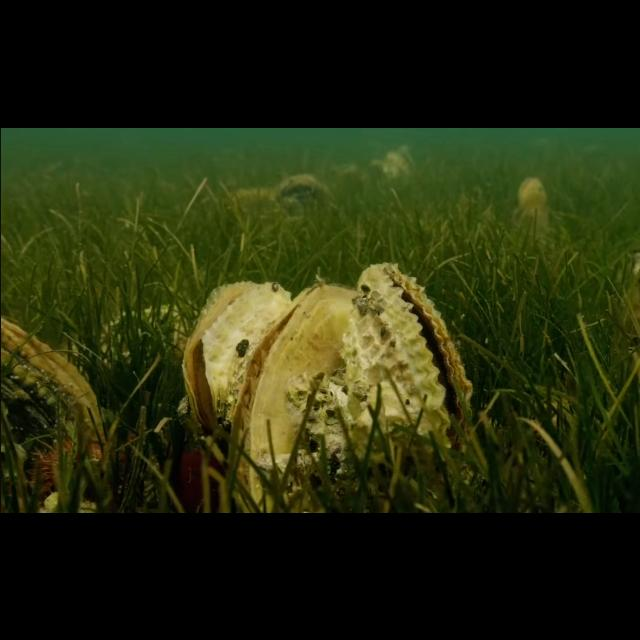Oyster-Closed: (0, 317, 106, 513), (274, 167, 332, 207)
Oyster-Open: (338, 258, 476, 494), (228, 277, 358, 513), (182, 279, 292, 451), (516, 172, 550, 218), (384, 143, 418, 181)
